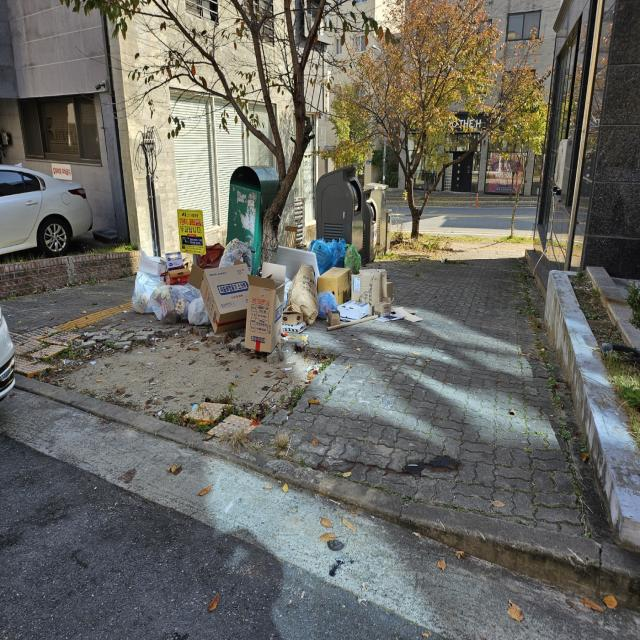CleanNet: (314, 161, 366, 255), (362, 187, 378, 262)
General Waste: (131, 227, 399, 360)
